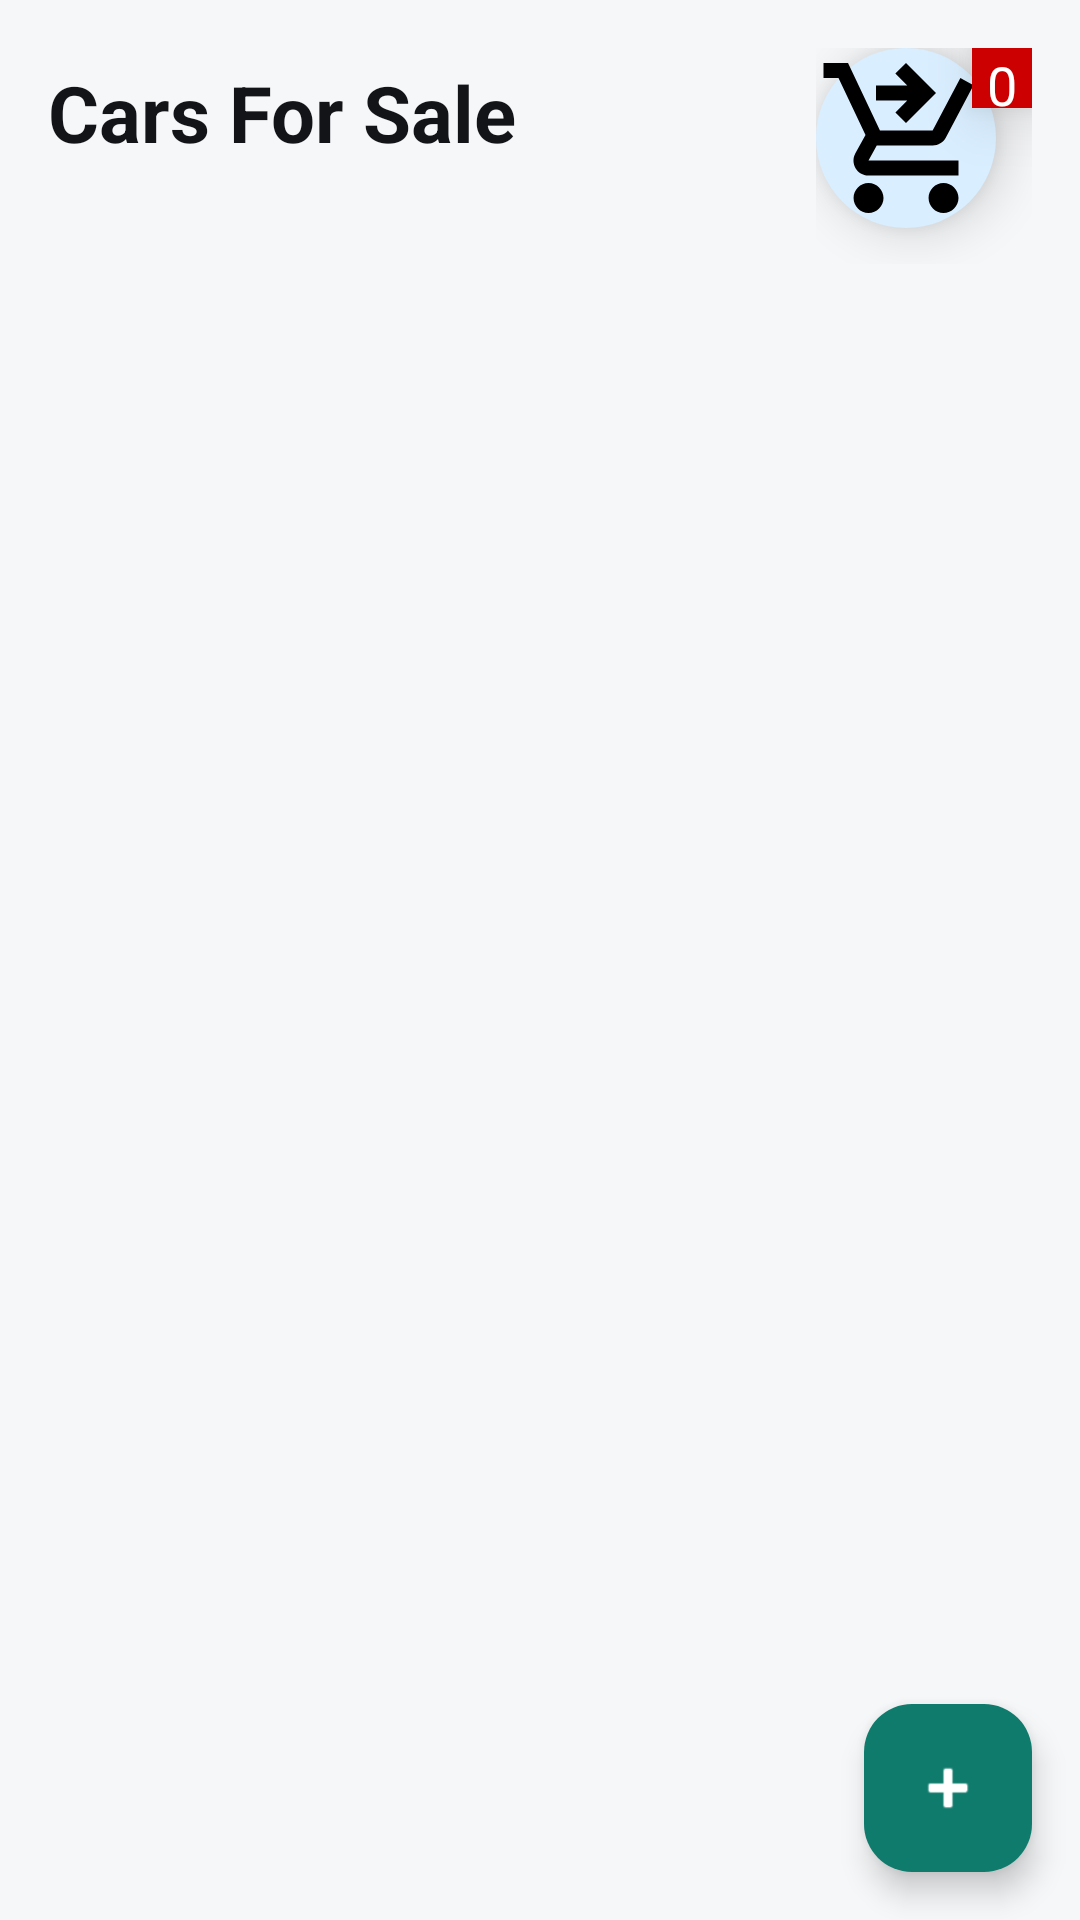

Screen size 1080 x 1920. Icon name, then its center in pixels as (x,y):
Shopping cart icon: (906,138)
